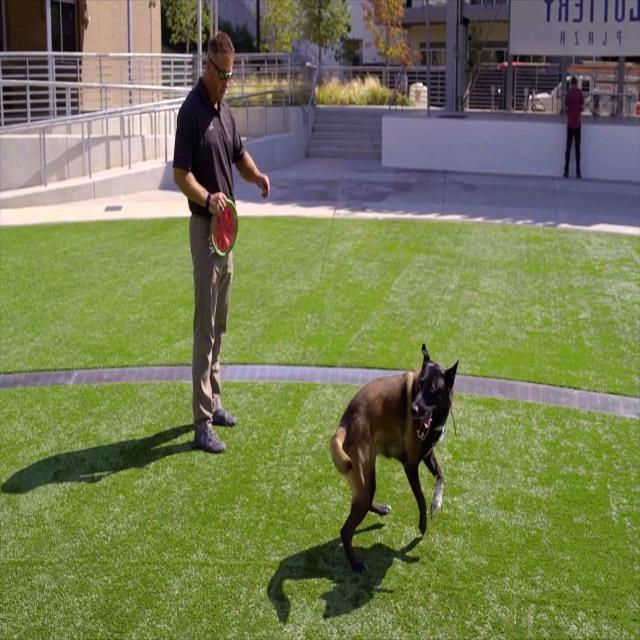Unleashed_Dog: (201, 223, 459, 572)
